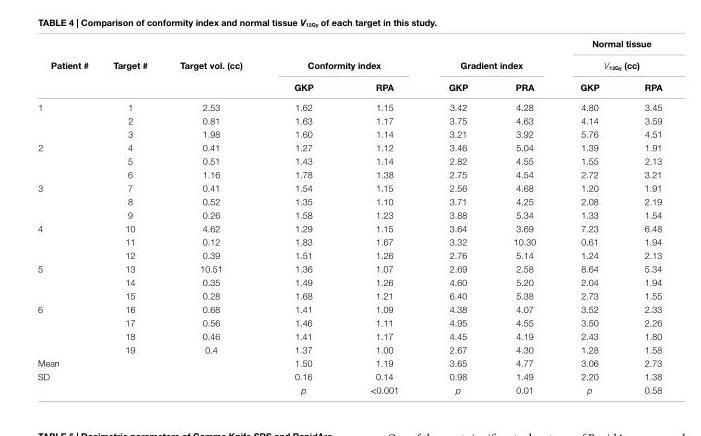table: (37, 37, 661, 396)
table column: (163, 37, 267, 396), (341, 37, 423, 396), (267, 37, 341, 396), (423, 37, 490, 396), (490, 37, 557, 396), (557, 37, 621, 396), (37, 37, 100, 396), (100, 37, 163, 396), (621, 37, 661, 396)
table column header: (37, 37, 661, 96)
table row: (37, 53, 661, 75), (37, 75, 661, 96), (37, 96, 661, 113), (37, 37, 661, 53), (37, 126, 661, 140), (37, 153, 661, 167), (37, 180, 661, 194), (37, 207, 661, 221), (37, 247, 661, 261), (37, 274, 661, 288), (37, 301, 661, 315), (37, 328, 661, 342), (37, 355, 661, 369), (37, 382, 661, 396), (37, 113, 661, 126), (37, 140, 661, 153), (37, 167, 661, 180), (37, 194, 661, 207), (37, 221, 661, 234), (37, 234, 661, 247), (37, 261, 661, 274), (37, 288, 661, 301), (37, 315, 661, 328), (37, 342, 661, 355), (37, 369, 661, 382)
table spanning cell: (163, 37, 267, 96), (557, 37, 661, 75), (37, 37, 100, 96), (100, 37, 163, 96), (267, 53, 423, 75), (37, 301, 100, 355), (423, 53, 557, 75), (37, 96, 100, 140), (37, 180, 100, 221), (37, 140, 100, 180), (37, 221, 100, 261), (37, 261, 100, 301), (37, 369, 100, 396)
